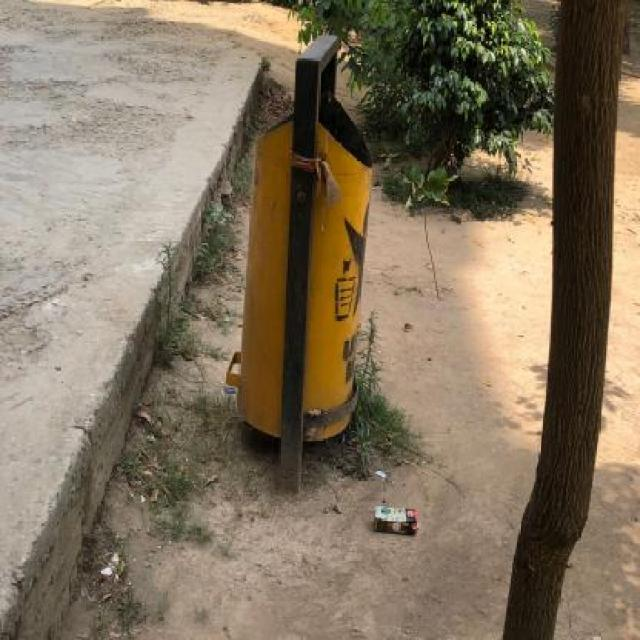garbage: (373, 501, 426, 554), (94, 548, 138, 590)
